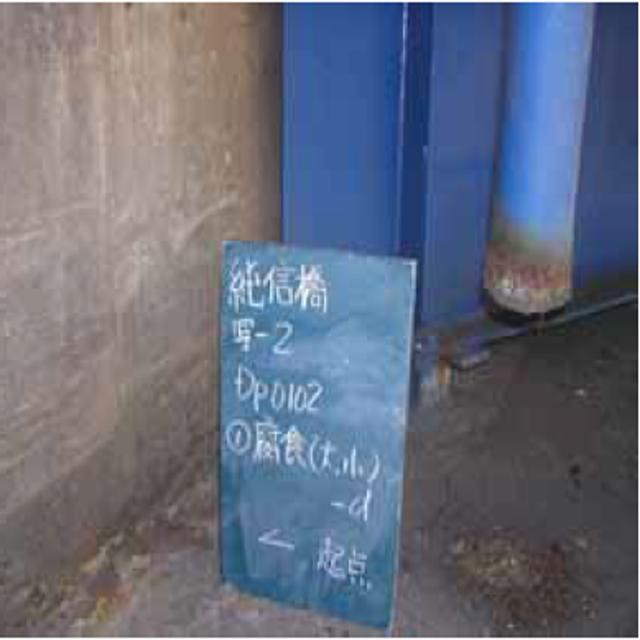corrosion: (474, 228, 574, 328)
